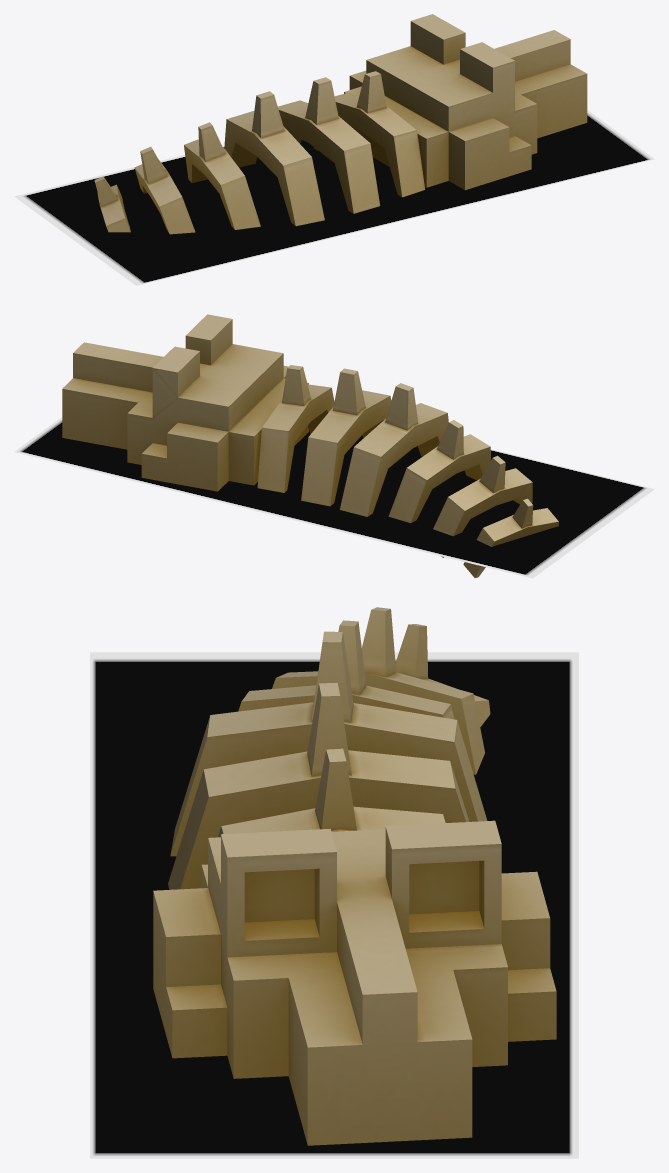
File: 5x2_skeleton.FBX
The picture shows the model from 3 angles, top to bottom: view 1: azimuth 30°, elevation 25°; view 2: azimuth 150°, elevation 25°; view 3: azimuth 270°, elevation 25°; orthographic projection. The views are drawn at different scales.
Parts seen in each view (by area): view 1: 5x2_skeleton, 5x2_skeleton_soft_shadow; view 2: 5x2_skeleton, 5x2_skeleton_soft_shadow; view 3: 5x2_skeleton, 5x2_skeleton_soft_shadow.
Boxes of the visible parts, x1,y1,x2,y2 form: 5x2_skeleton: (94, 14, 587, 234); 5x2_skeleton_soft_shadow: (14, 110, 654, 285); 5x2_skeleton: (62, 314, 558, 577); 5x2_skeleton_soft_shadow: (14, 417, 654, 578); 5x2_skeleton: (153, 607, 556, 1145); 5x2_skeleton_soft_shadow: (90, 652, 578, 1158).
Size of the model in its own units: 5464 by 1357 by 2229.
